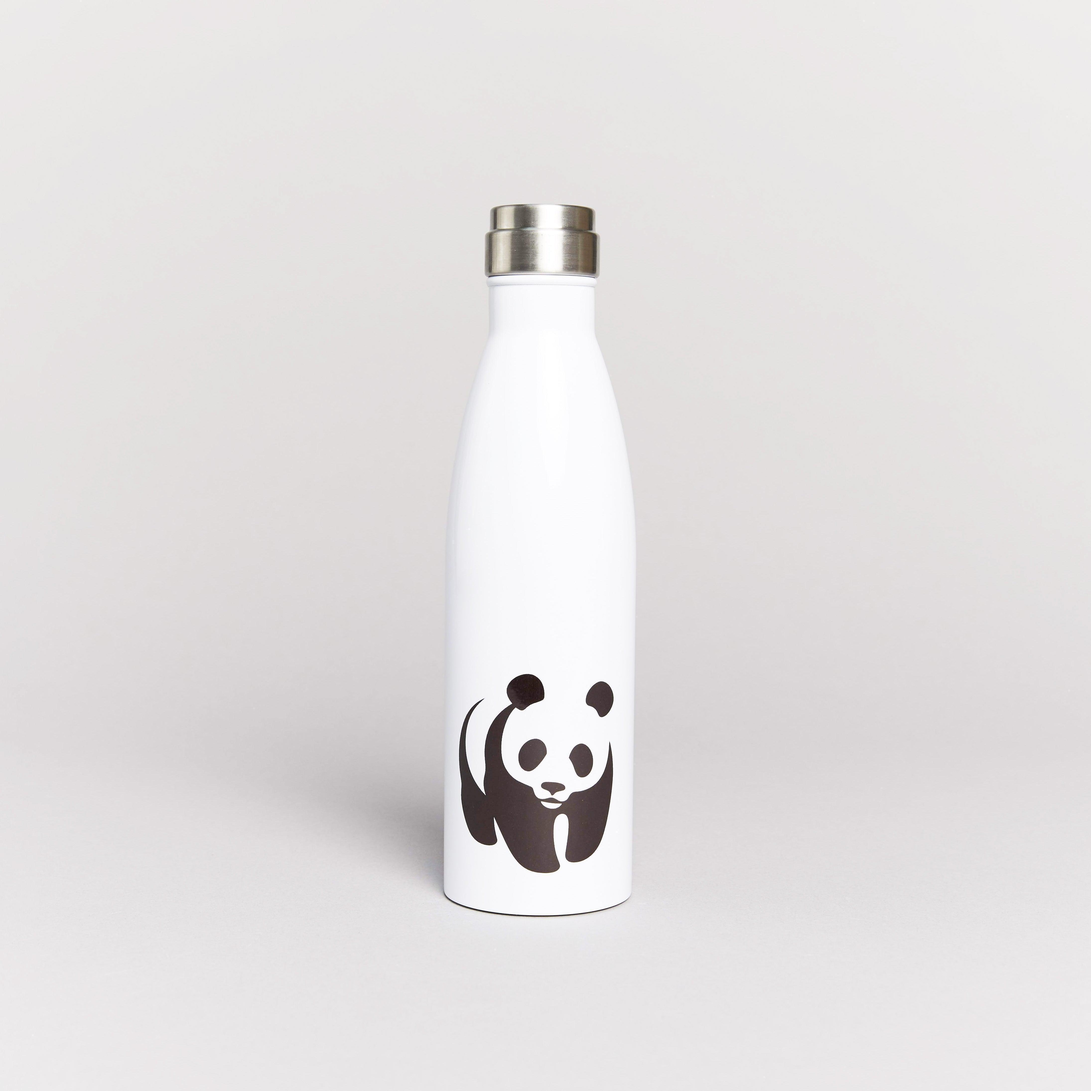gym bottle: (435, 184, 647, 916)
